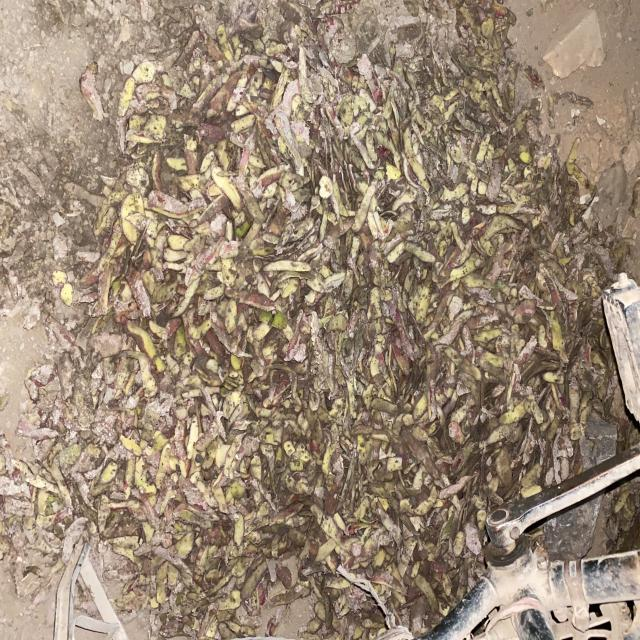paper: (104, 440, 217, 529), (308, 174, 408, 258)
